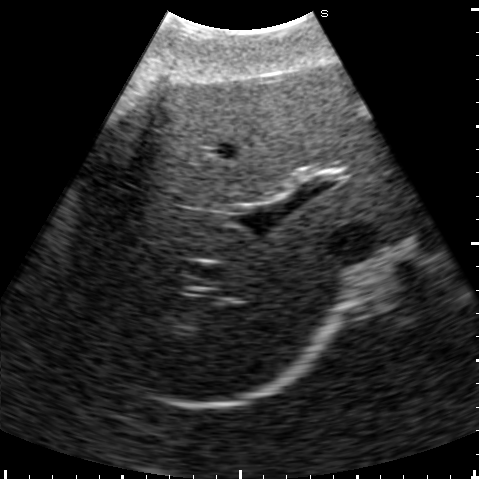IVC: (330, 223, 376, 265)
S3: (316, 75, 405, 177)
S4: (131, 63, 340, 206)
